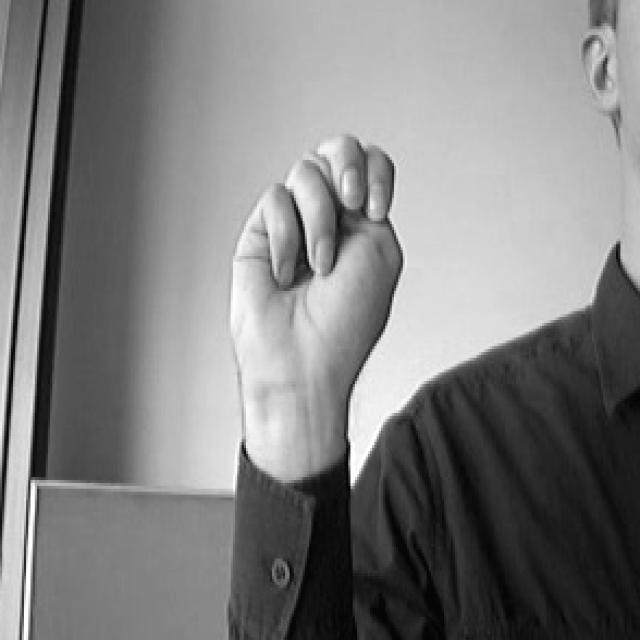N: (217, 116, 424, 402)
